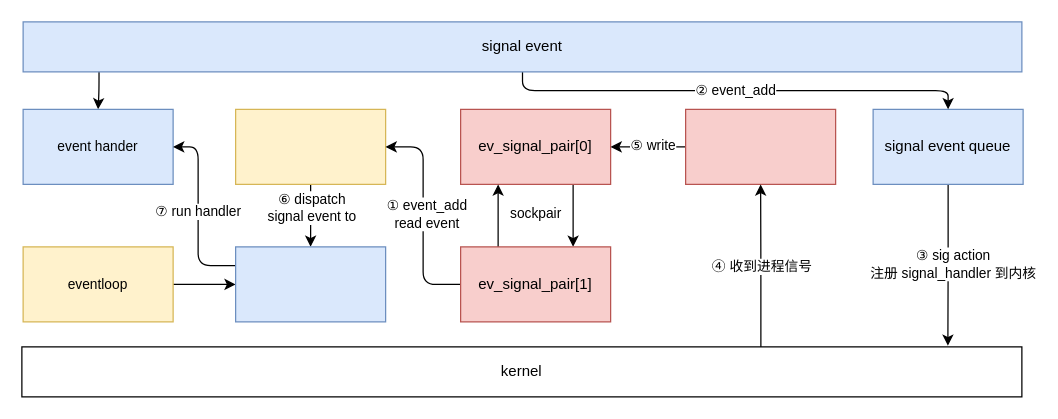
Image size: 1058x419. Some labels were removed from this diagram. The shapes that lost their labels are listed below. From the top down, each one's centre as x and y in pixels, then its label:
At (x=310, y=146): "eventop (epoll)".
At (x=760, y=146): "ev signal handler".
At (x=310, y=284): "event active queue".
